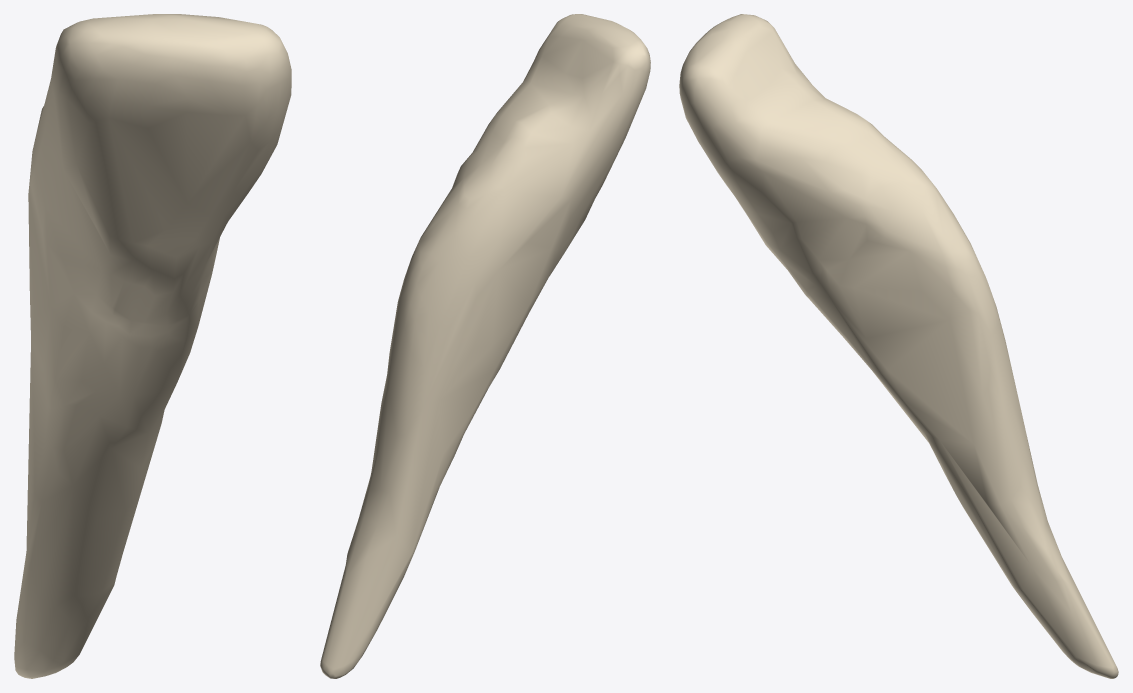
The model's file is lower-lateral-incisor-r.glb.
3 renders of one model, left to right at view 1: azimuth 30°, elevation 25°; view 2: azimuth 150°, elevation 25°; view 3: azimuth 270°, elevation 25°, orthographic. The views are drawn at different scales.
Parts seen in each view (by area): view 1: Lower lateral incisor.r; view 2: Lower lateral incisor.r; view 3: Lower lateral incisor.r.
Part boxes in pixels (x1,y1,x2,y2): Lower lateral incisor.r: (14, 14, 291, 678); Lower lateral incisor.r: (320, 14, 650, 678); Lower lateral incisor.r: (679, 14, 1118, 678).
Bounding box in the file's own units: 0.00769 × 0.0245 × 0.0164.
